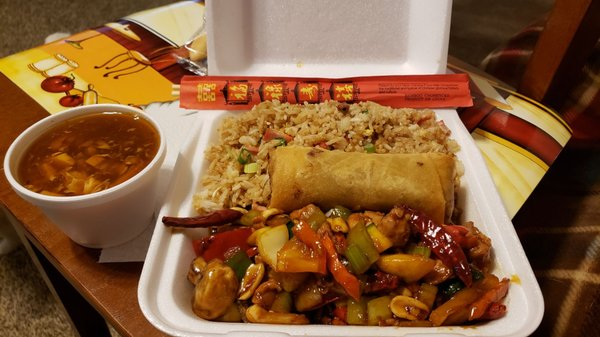sushi: (3, 103, 167, 248)
